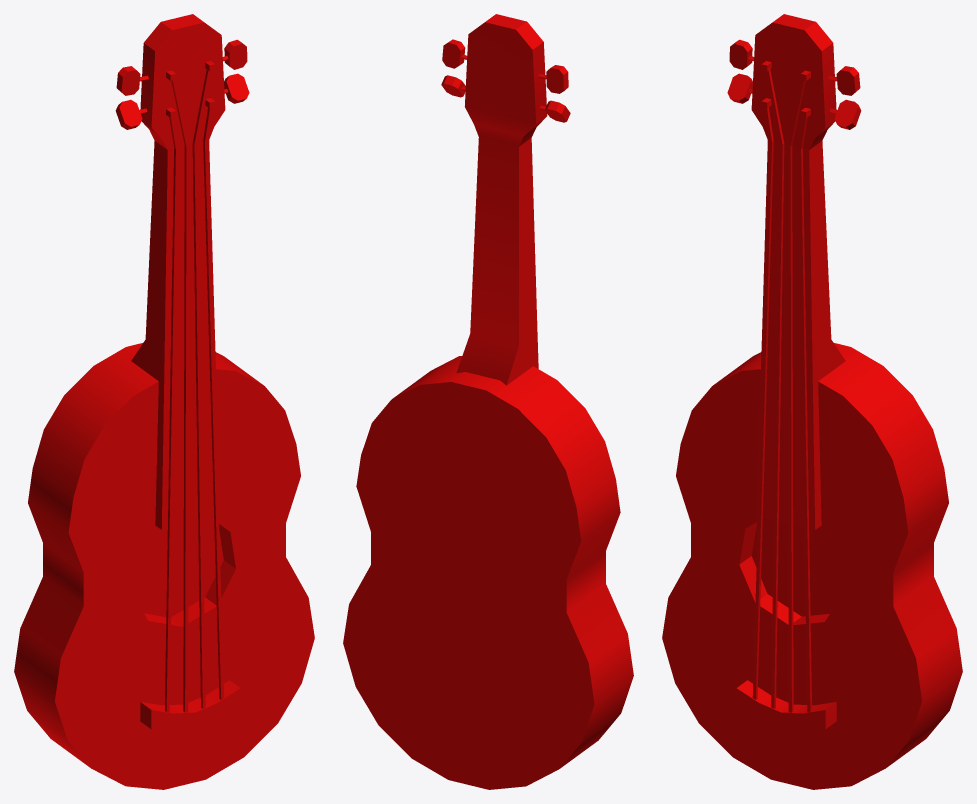
The model's file is Asset_Ukulele_01.glb.
3 views of the same model, side by side, from view 1: azimuth 30°, elevation 25°; view 2: azimuth 150°, elevation 25°; view 3: azimuth 330°, elevation 25° (orthographic). The views are drawn at different scales.
Parts seen in each view (by area): view 1: Asset_Ukulele_01; view 2: Asset_Ukulele_01; view 3: Asset_Ukulele_01.
Boxes of the visible parts, x1,y1,x2,y2 form: Asset_Ukulele_01: [14, 14, 314, 789]; Asset_Ukulele_01: [343, 14, 633, 789]; Asset_Ukulele_01: [662, 14, 962, 789].
Bounding box in the file's own units: 0.2829 × 0.7909 × 0.0976.
